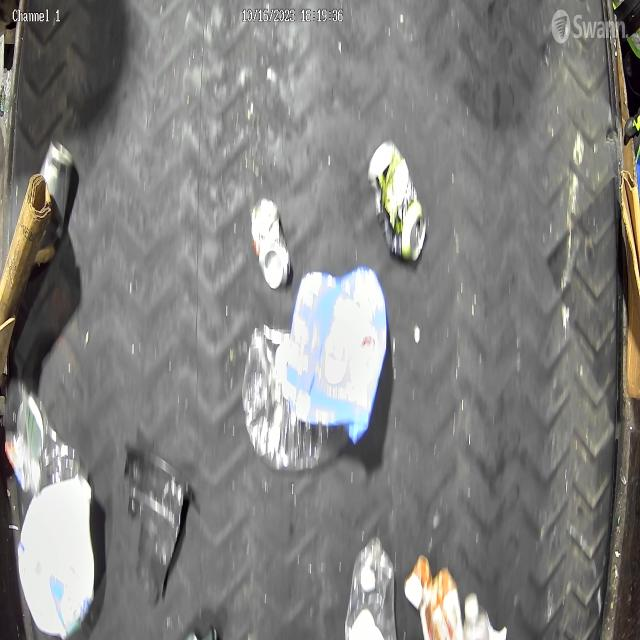can: (367, 140, 428, 265), (249, 195, 293, 292), (41, 137, 75, 231)
milk_jug: (15, 471, 96, 640)
plastic_bottle: (240, 325, 348, 469), (344, 533, 399, 640)
